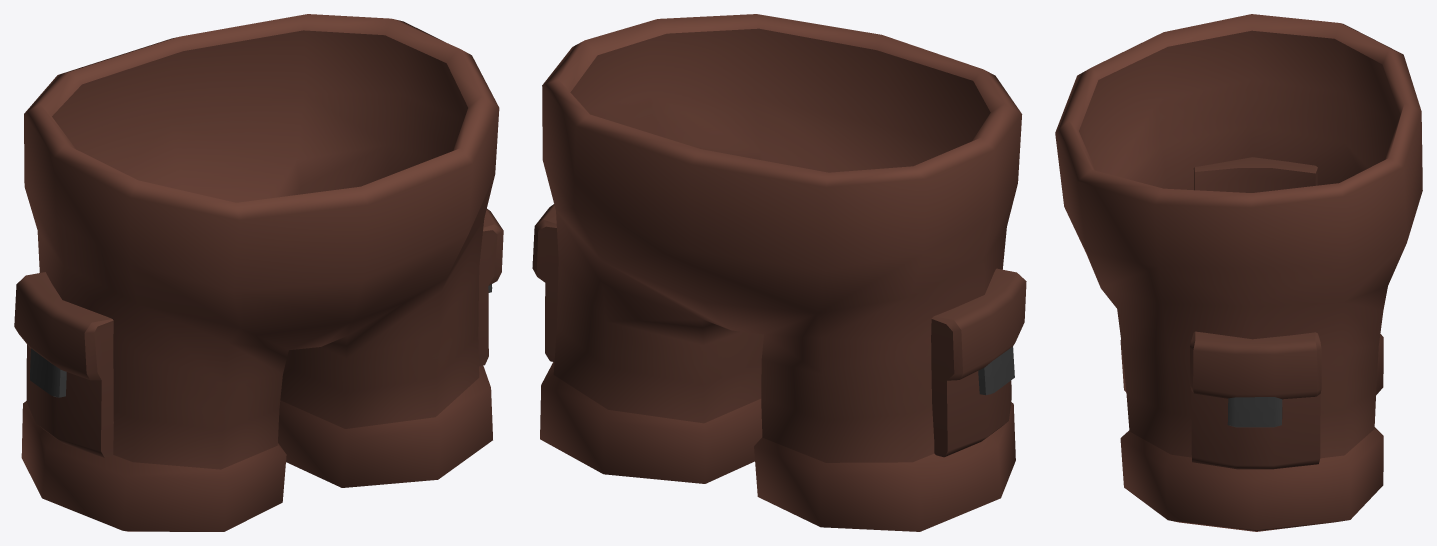
The model's file is Bottom_11.fbx.
3 renders of one model, left to right at view 1: azimuth 30°, elevation 25°; view 2: azimuth 150°, elevation 25°; view 3: azimuth 270°, elevation 25°, orthographic. The views are drawn at different scales.
Visible parts, largest first — view 1: Bottom_11; view 2: Bottom_11; view 3: Bottom_11.
Part boxes in pixels (left/top/right/bottom): Bottom_11: left=14, top=14, right=503, bottom=531; Bottom_11: left=532, top=14, right=1026, bottom=531; Bottom_11: left=1055, top=14, right=1422, bottom=531.
Bounding box in the file's own units: 40.66 × 32.52 × 31.34.
